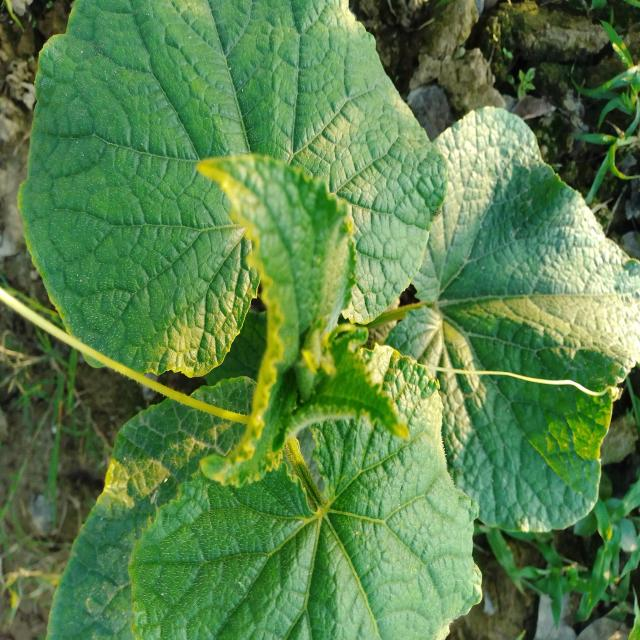cucumber_healthy: (15, 0, 455, 386), (44, 343, 488, 640), (414, 80, 640, 546), (196, 134, 419, 484)
